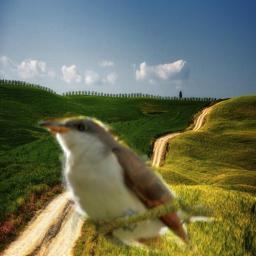Cuckoo: (32, 103, 214, 253)
